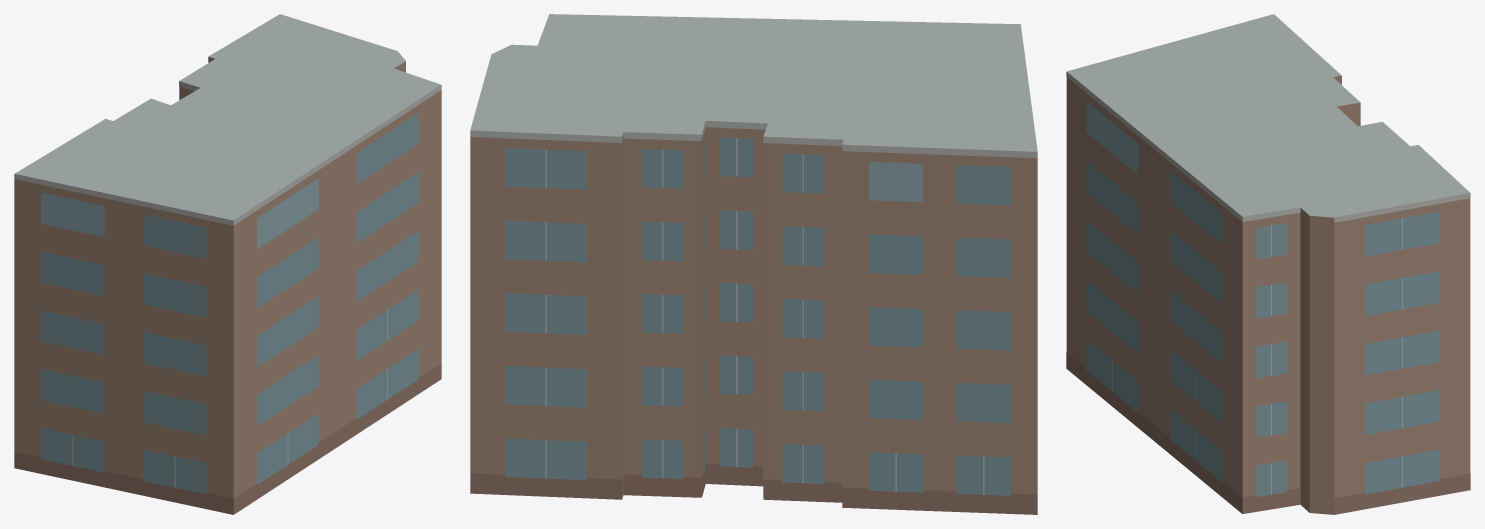
File: survey-upis-32937655.glb
The picture shows the model from 3 angles, left to right: view 1: azimuth 30°, elevation 25°; view 2: azimuth 150°, elevation 25°; view 3: azimuth 270°, elevation 25°; orthographic projection. The views are drawn at different scales.
Visible parts, largest first — view 1: survey-upis-32937655.tmp; view 2: survey-upis-32937655.tmp; view 3: survey-upis-32937655.tmp.
Boxes of the visible parts, x1,y1,x2,y2 form: survey-upis-32937655.tmp: (14,14,441,514); survey-upis-32937655.tmp: (470,14,1037,514); survey-upis-32937655.tmp: (1066,14,1470,514).
Size of the model in its own units: 20.29 by 13.8 by 17.01.
